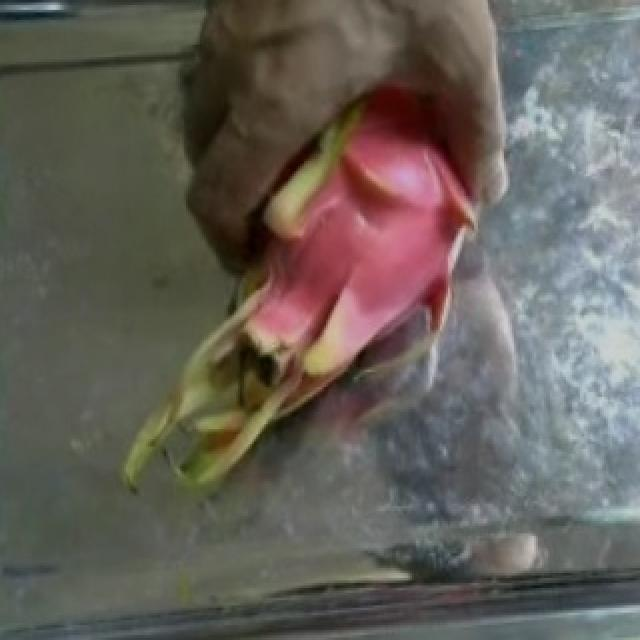fruit: (118, 37, 500, 496)
